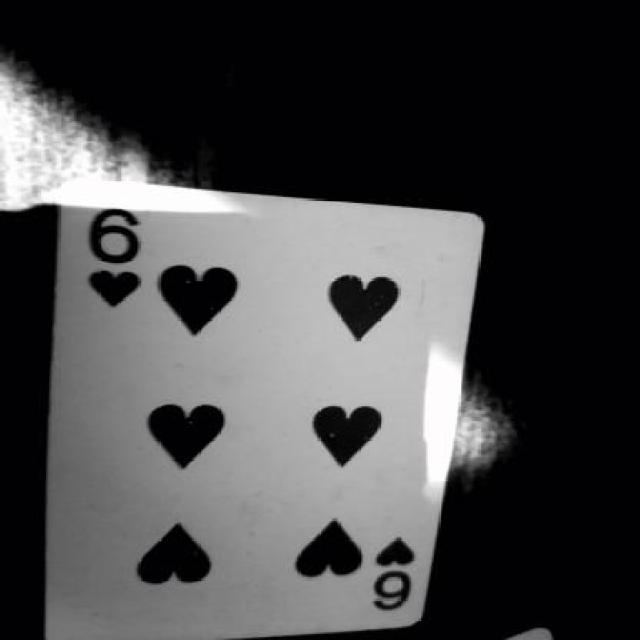6H: (73, 198, 165, 322)
